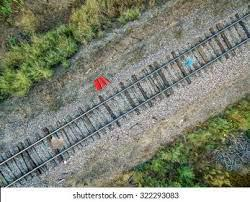Color_steel: (93, 77, 112, 90)
Plastic: (183, 56, 196, 71)
